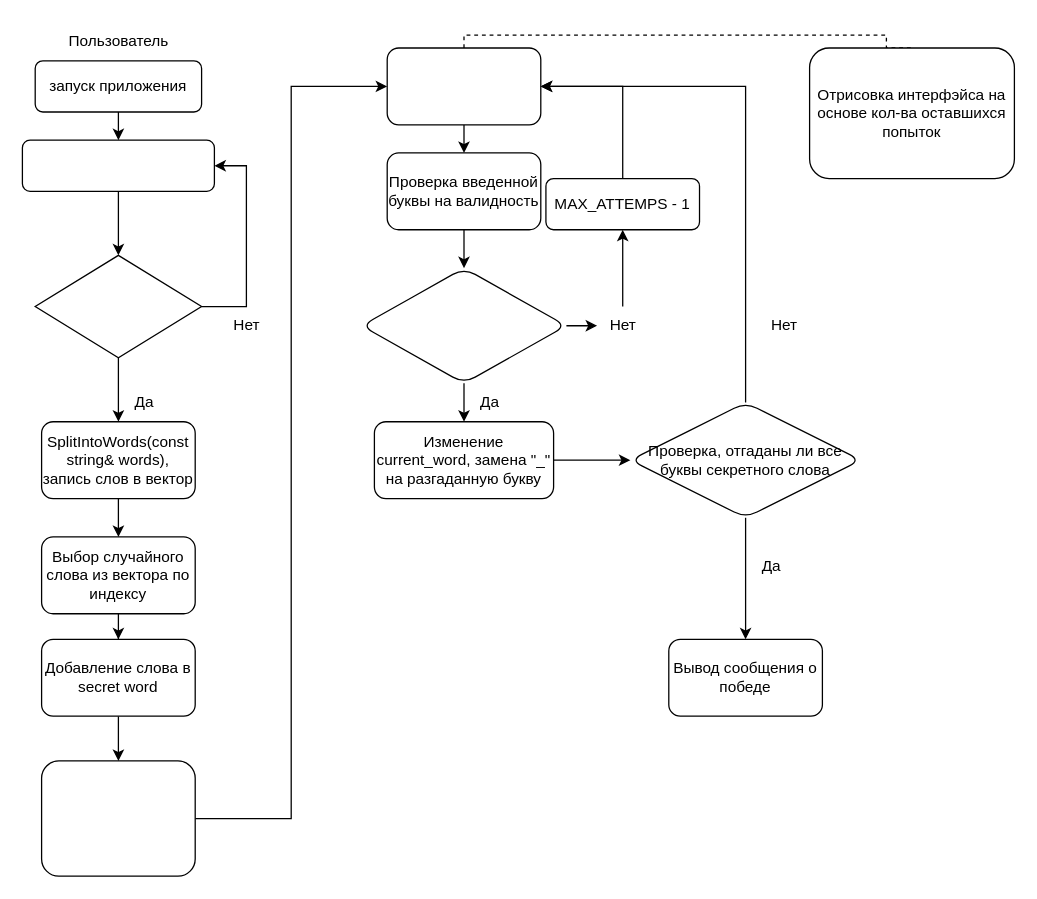
Image size: 1037x899. Some labels were removed from this diagram. The shapes that lost their labels are listed below. From the top down, each one's centre as x and y in pixels, then its label:
point 463,86: Предлагаем пользователю ввести букву
point 117,165: Чтение документа (словаря)
point 118,306: Открыт и читаем
point 463,325: Есть ли такая буква в secret_word?
point 117,818: Создание current_word из secret_word с использованием символа "_"
